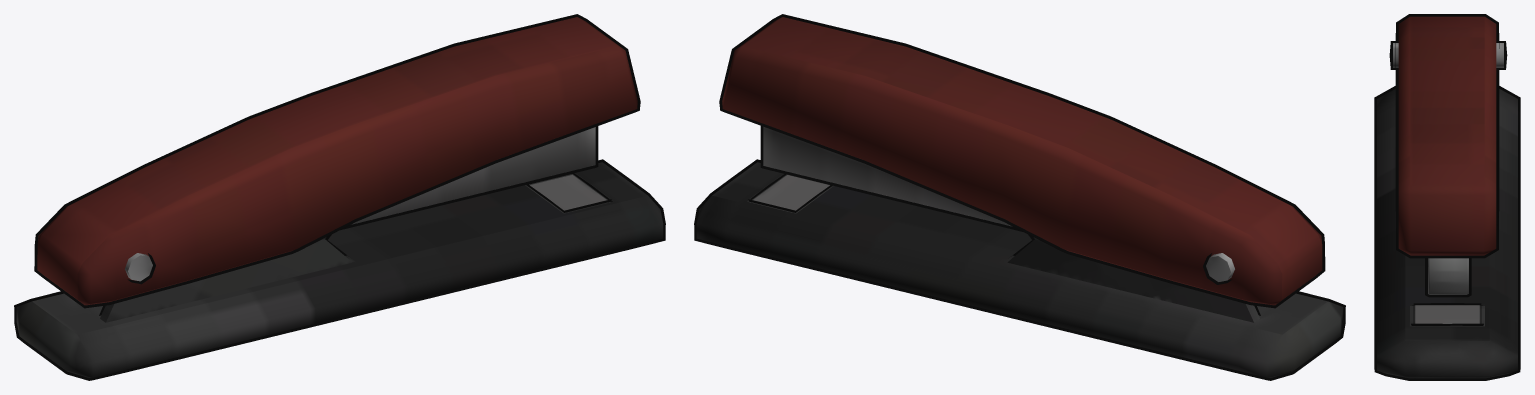
Rendered from Grampeador.glb.
3 renders of one model, left to right at view 1: azimuth 30°, elevation 25°; view 2: azimuth 150°, elevation 25°; view 3: azimuth 270°, elevation 25°, orthographic. The views are drawn at different scales.
Visible parts, largest first — view 1: Grampeador; view 2: Grampeador; view 3: Grampeador.
Part boxes in pixels (x1,y1,x2,y2): Grampeador: (14,14,665,380); Grampeador: (694,14,1345,380); Grampeador: (1374,14,1520,380).
Bounding box in the file's own units: 2.37 × 0.7405 × 0.5429.
Materials: 2 (1 with a texture image).
